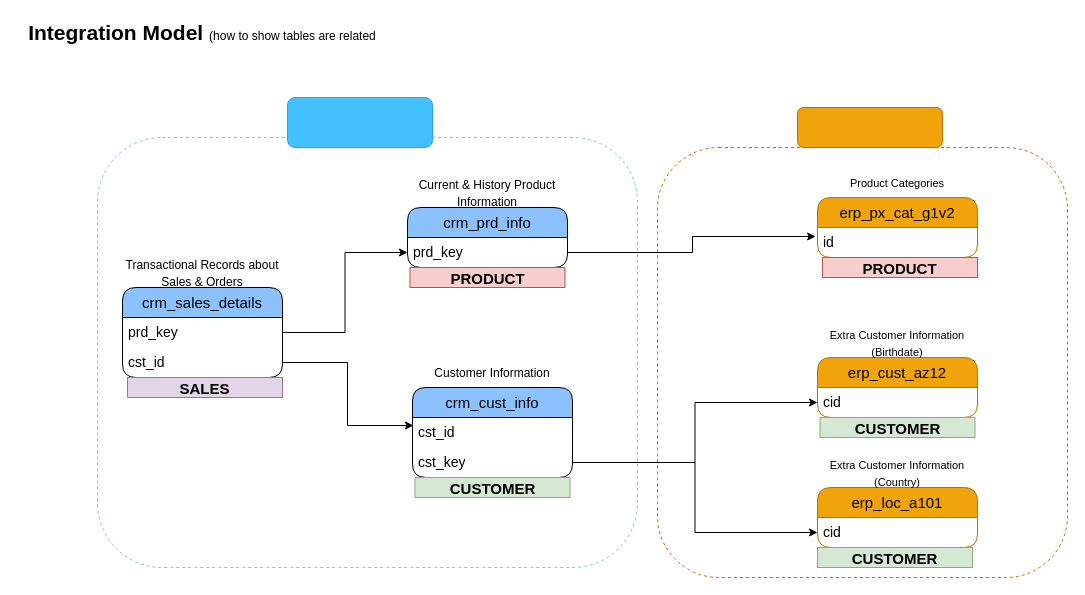
The diagram is 1085 pixels wide and 595 high, and some of its shapes have lost their labels. Each missing label, with the centre of its shape:
"CRM" goes at point (359, 122).
"ERP" goes at point (869, 127).
